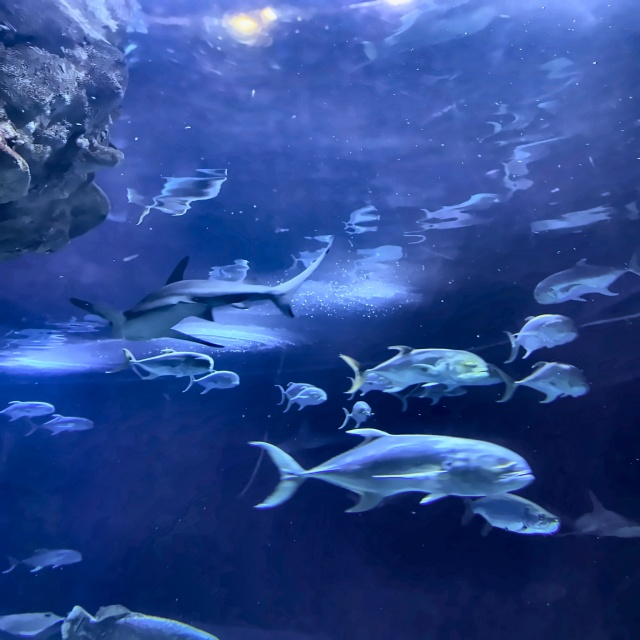fish: (248, 428, 535, 514), (342, 345, 484, 390), (61, 605, 220, 639), (533, 257, 639, 306), (389, 364, 503, 404), (459, 489, 559, 534), (499, 361, 586, 403), (504, 315, 576, 357), (117, 348, 212, 377), (2, 549, 82, 576), (279, 382, 326, 412), (28, 413, 91, 434), (182, 371, 240, 393), (0, 401, 53, 423), (341, 401, 371, 427)
shark: (68, 247, 330, 348), (558, 493, 639, 539)
stingray: (0, 612, 66, 639)
